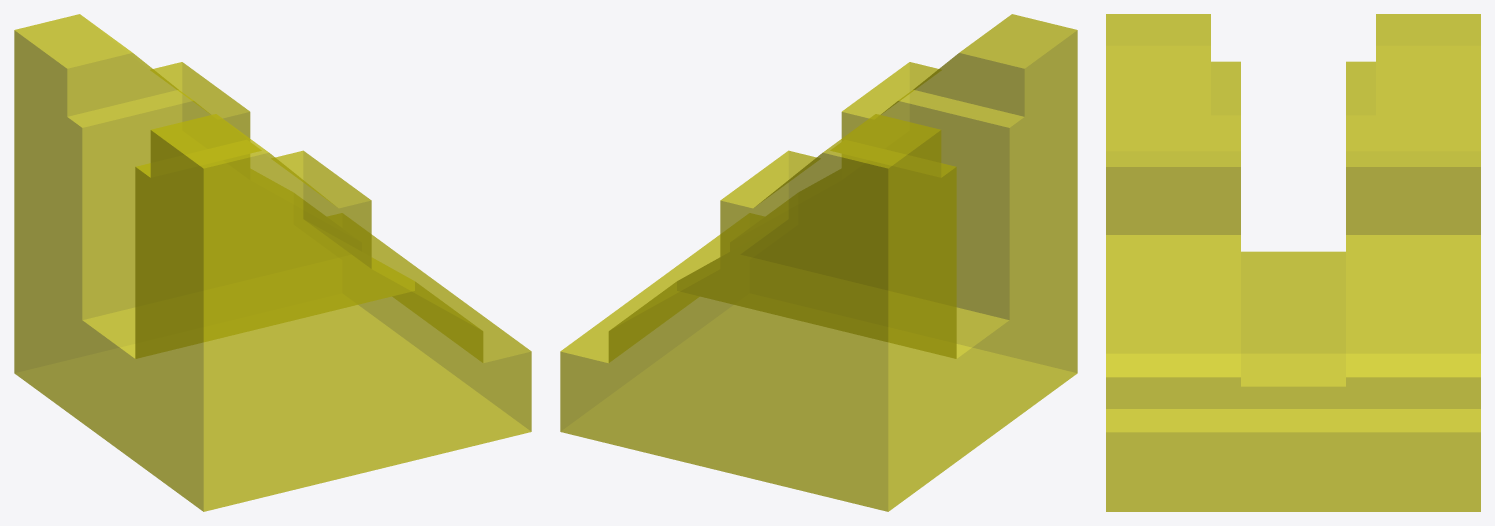
3 views of the same model, side by side, from view 1: azimuth 30°, elevation 25°; view 2: azimuth 150°, elevation 25°; view 3: azimuth 270°, elevation 25° (orthographic).
Visible parts, largest first — view 1: Sólido1; view 2: Sólido1; view 3: Sólido1.
Boxes of the visible parts, left/top/right/bottom form: Sólido1: left=14, top=14, right=531, bottom=511; Sólido1: left=560, top=14, right=1077, bottom=511; Sólido1: left=1106, top=14, right=1480, bottom=511.
Size of the model in its own units: 50 by 50 by 50.
